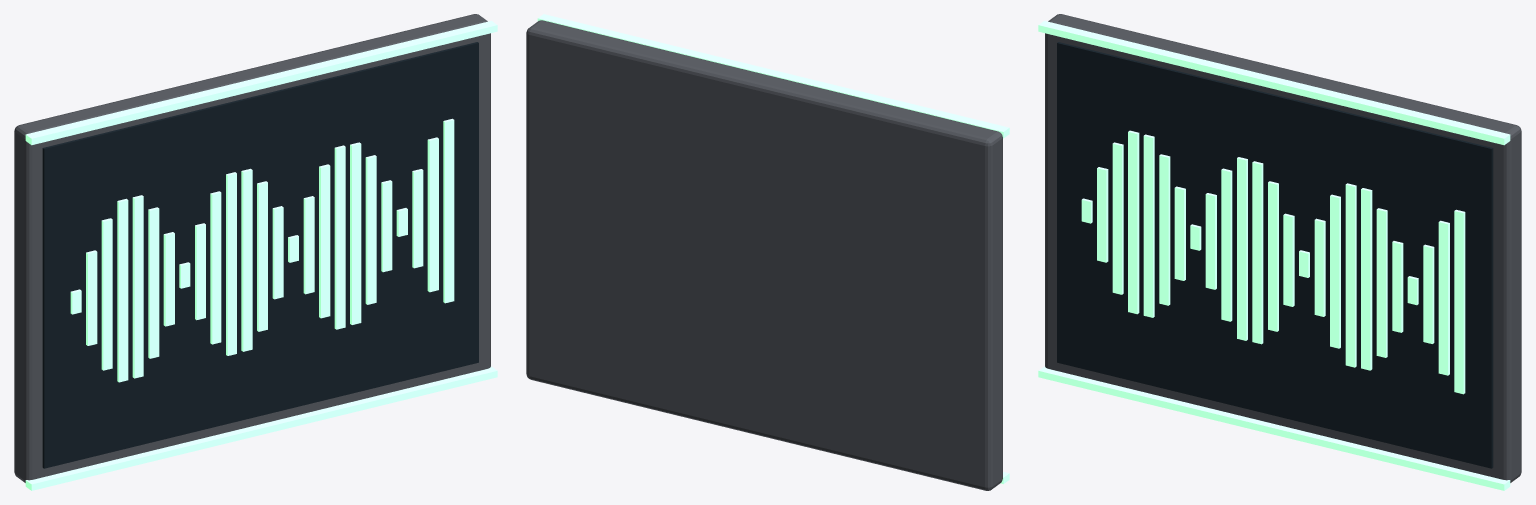
The model's file is holo_poster_waveform.glb.
The picture shows the model from 3 angles, left to right: view 1: azimuth 30°, elevation 25°; view 2: azimuth 150°, elevation 25°; view 3: azimuth 330°, elevation 25°; orthographic projection.
Visible parts, largest first — view 1: GD_holo_poster_waveform__m1, GD_holo_poster_waveform__m2, GD_holo_poster_waveform__m0; view 2: GD_holo_poster_waveform__m0, GD_holo_poster_waveform__m2; view 3: GD_holo_poster_waveform__m1, GD_holo_poster_waveform__m2, GD_holo_poster_waveform__m0.
Boxes of the visible parts, box(x1,y1,x2,y2) form: GD_holo_poster_waveform__m1: box(42, 42, 478, 468); GD_holo_poster_waveform__m2: box(25, 21, 497, 490); GD_holo_poster_waveform__m0: box(14, 14, 490, 482); GD_holo_poster_waveform__m0: box(526, 20, 1002, 490); GD_holo_poster_waveform__m2: box(537, 14, 1009, 483); GD_holo_poster_waveform__m1: box(1057, 42, 1493, 468); GD_holo_poster_waveform__m2: box(1038, 21, 1510, 490); GD_holo_poster_waveform__m0: box(1045, 14, 1521, 482).
Bounding box in the file's own units: 0.9 × 0.65 × 0.065.
